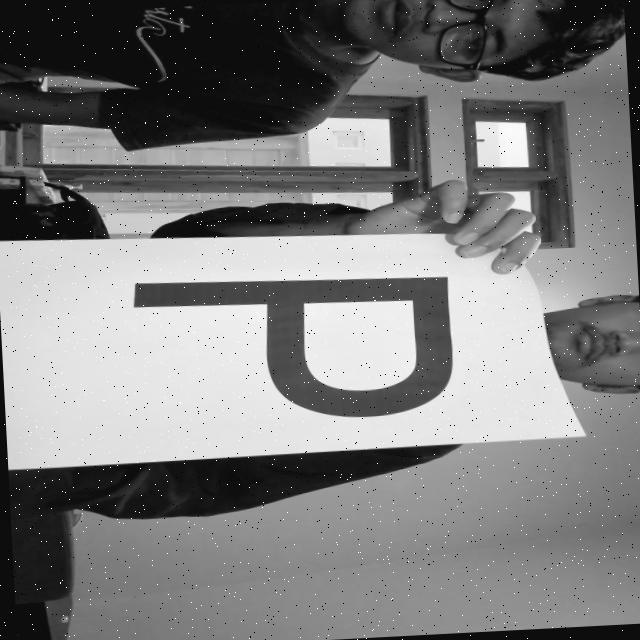p: (120, 260, 482, 438)
